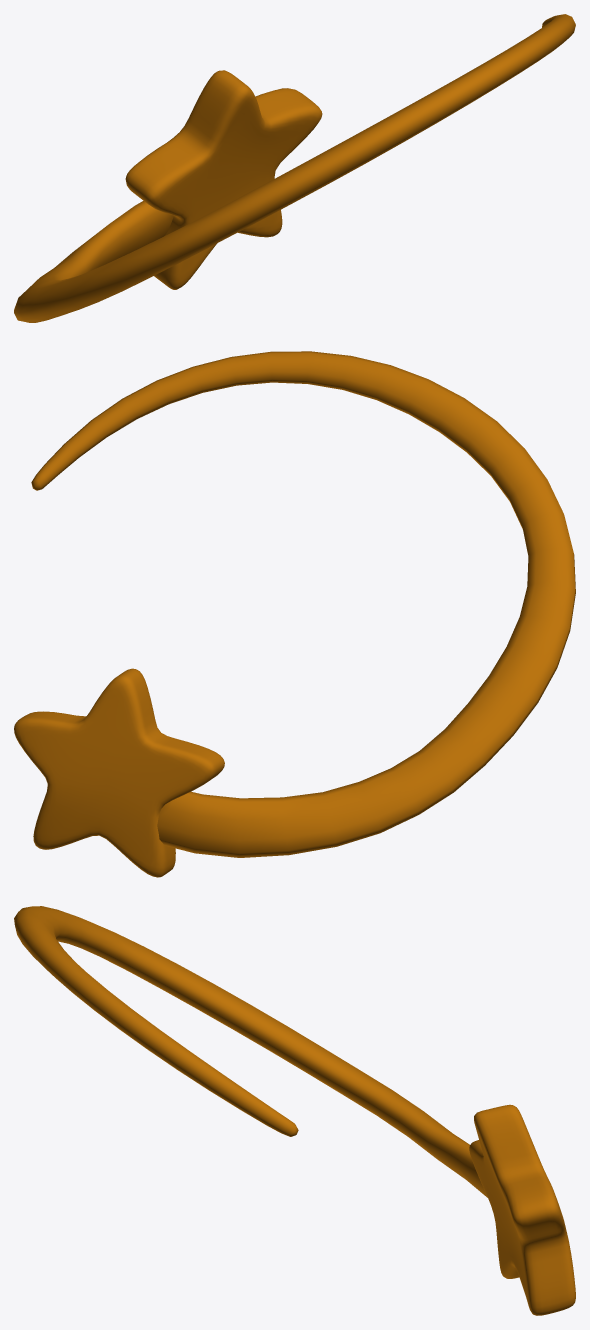
The model's file is moving-star.FBX.
The picture shows the model from 3 angles, top to bottom: view 1: azimuth 30°, elevation 25°; view 2: azimuth 150°, elevation 25°; view 3: azimuth 270°, elevation 25°; orthographic projection. The views are drawn at different scales.
Visible parts, largest first — view 1: Group35681, Group60615; view 2: Group35681, Group60615; view 3: Group35681, Group60615.
Part boxes in pixels (x1,y1,x2,y2): Group35681: (14,14,575,322); Group60615: (125,70,322,289); Group35681: (31,351,575,857); Group60615: (14,668,224,877); Group35681: (14,906,487,1197); Group60615: (469,1104,575,1315).
Bounding box in the file's own units: 22.22 × 15.11 × 21.36.
